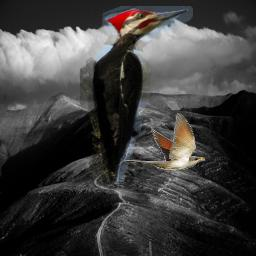Cuckoo: (123, 113, 205, 170)
Woodpecker: (80, 6, 193, 184)
